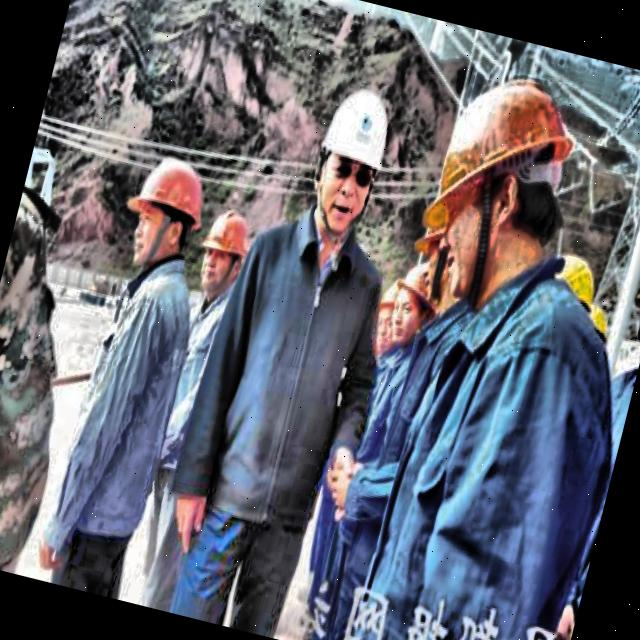helmet: (403, 47, 602, 310), (292, 70, 406, 252), (113, 142, 220, 284), (192, 205, 254, 298), (382, 258, 441, 350), (361, 274, 413, 371)
